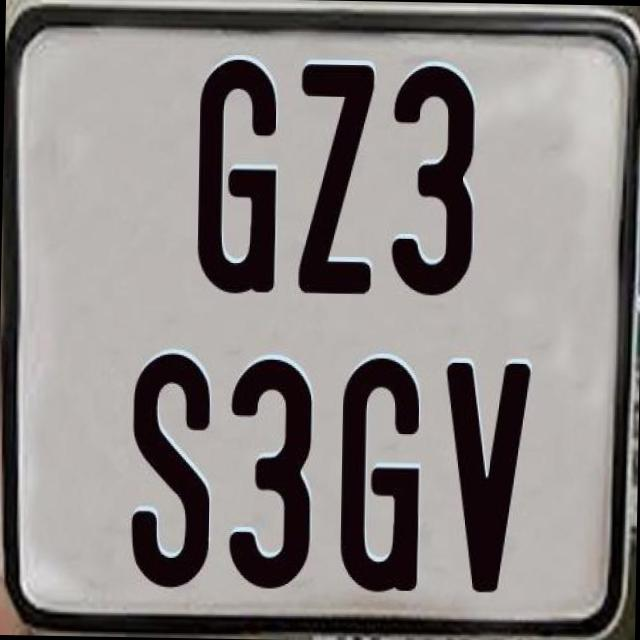3: (227, 354, 317, 584), (387, 66, 473, 296)
G: (335, 354, 425, 595), (195, 57, 282, 297)
S: (128, 348, 215, 584)
V: (440, 359, 534, 591)
Z: (296, 62, 374, 300)
